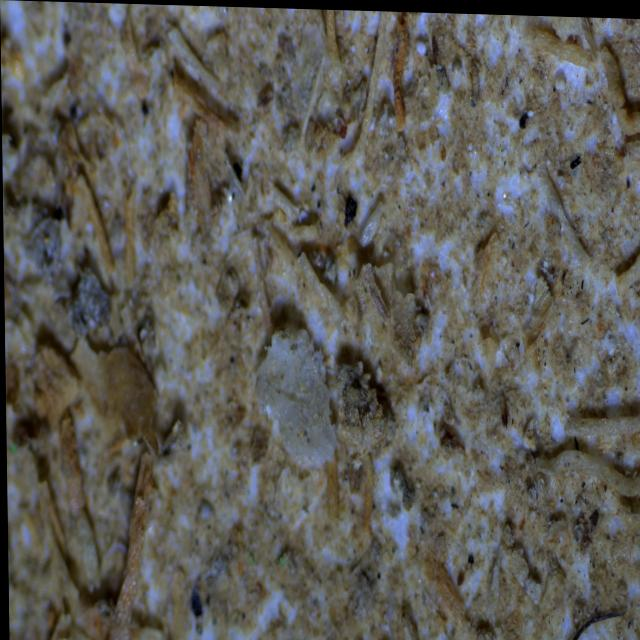microplastic: (245, 318, 339, 478)
